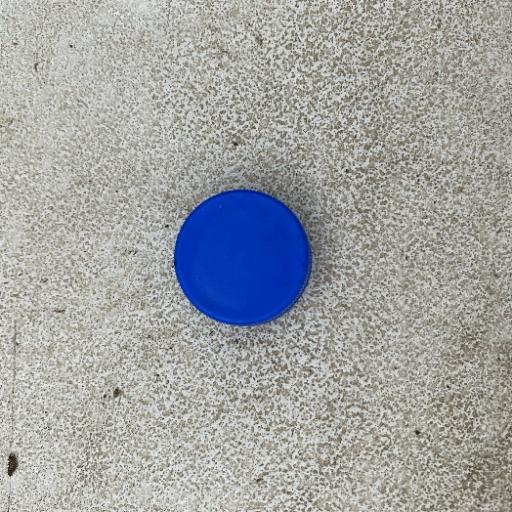Plastic: (171, 187, 314, 328)
